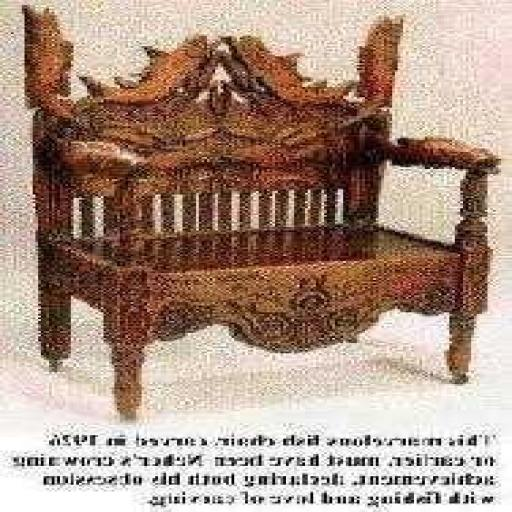chair: (18, 1, 508, 421)
